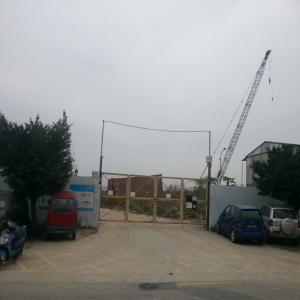Vehicle-registration-plate: (247, 225, 257, 230)
